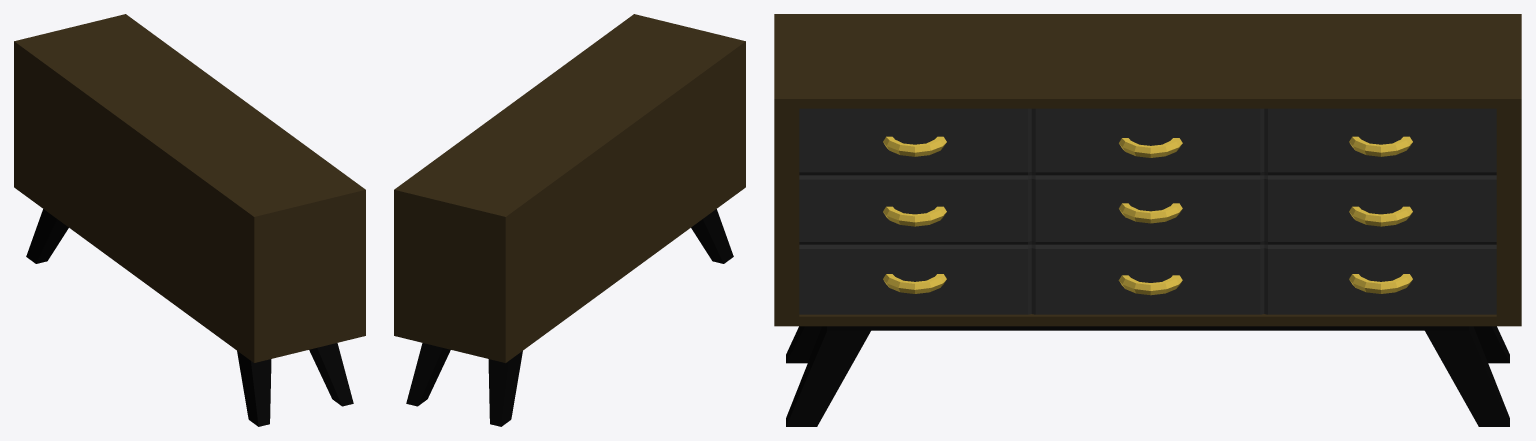
File: Kommode.glb
3 renders of one model, left to right at view 1: azimuth 30°, elevation 25°; view 2: azimuth 150°, elevation 25°; view 3: azimuth 270°, elevation 25°, orthographic. The views are drawn at different scales.
Visible parts, largest first — view 1: Cube.023, Cube.024; view 2: Cube.023, Cube.024; view 3: Cube.025, Cube.023, Cube.024, Torus, Torus.001.
Boxes of the visible parts, box(x1,y1,x2,y2) form: Cube.023: box(14, 14, 365, 362); Cube.024: box(26, 209, 353, 426); Cube.023: box(394, 14, 745, 362); Cube.024: box(406, 209, 733, 426); Cube.025: box(799, 108, 1496, 314); Cube.023: box(774, 14, 1521, 326); Cube.024: box(786, 326, 1509, 426); Torus: box(883, 136, 1412, 293); Torus.001: box(1118, 138, 1182, 295).
Bounding box in the file's own units: 1.4 × 2.33 × 4.72.
